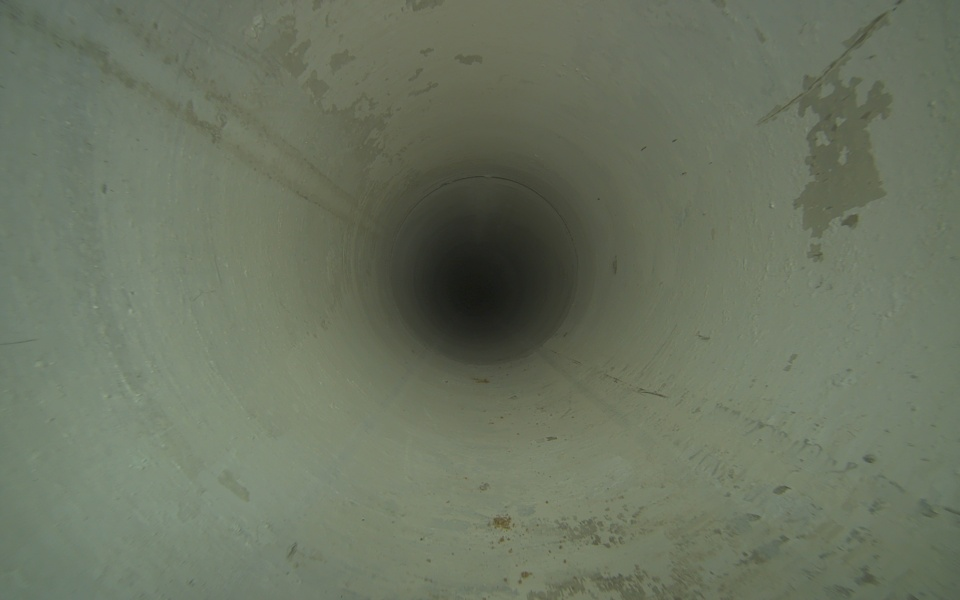circle1: (386, 173, 581, 370)
circle2: (455, 269, 496, 309)
